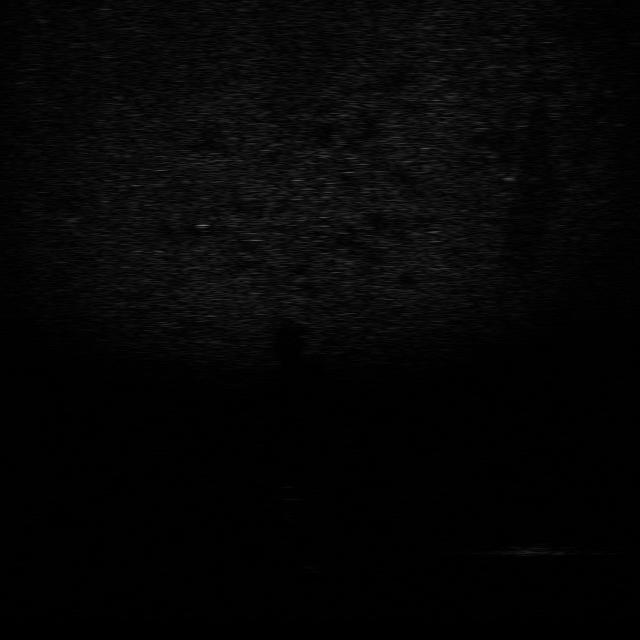ball: (265, 482, 309, 506)
metal bucket: (498, 538, 582, 562)
tyre: (297, 551, 348, 581)
